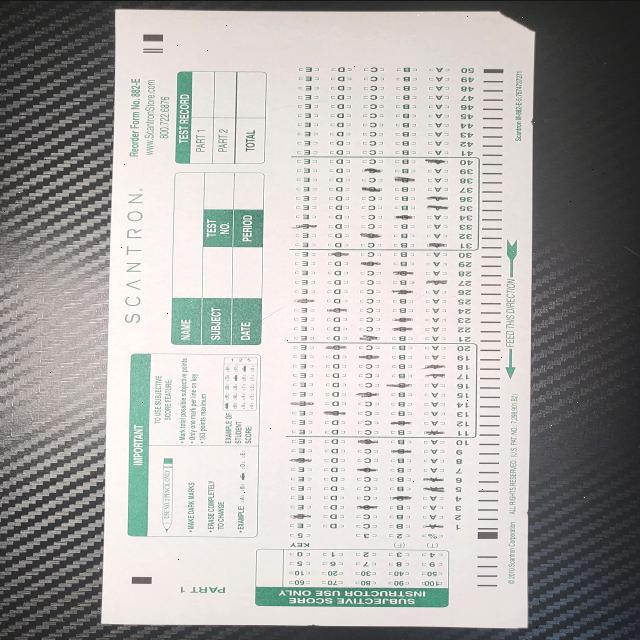scantron: (101, 8, 536, 628)
